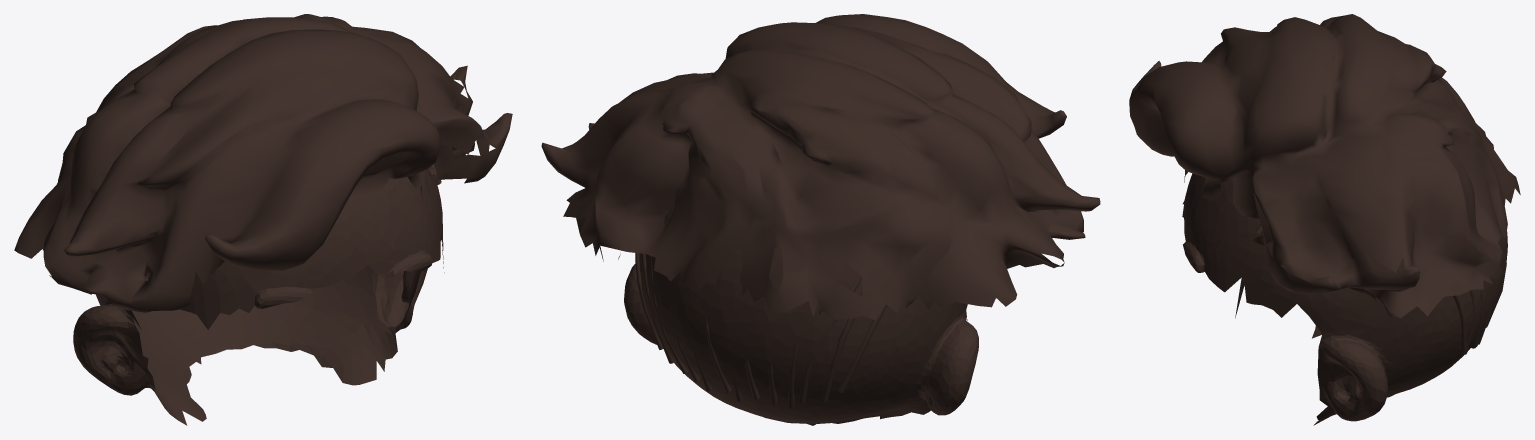
File: waves.glb
The picture shows the model from 3 angles, left to right: view 1: azimuth 30°, elevation 25°; view 2: azimuth 150°, elevation 25°; view 3: azimuth 270°, elevation 25°; orthographic projection. The views are drawn at different scales.
Visible parts, largest first — view 1: Hair, HairScalp; view 2: Hair, HairScalp, HairPulledRootStrands; view 3: Hair, HairScalp, HairPulledRootStrands.
Boxes of the visible parts, bbox=[...] form: Hair: bbox=[14, 14, 512, 312]; HairScalp: bbox=[73, 169, 444, 425]; Hair: bbox=[541, 14, 1100, 320]; HairScalp: bbox=[624, 204, 978, 425]; HairPulledRootStrands: bbox=[635, 253, 887, 408]; Hair: bbox=[1129, 14, 1520, 317]; HairScalp: bbox=[1182, 173, 1507, 425]; HairPulledRootStrands: bbox=[1256, 224, 1507, 354].
Bounding box in the file's own units: 0.7089 × 0.5118 × 0.5261.
